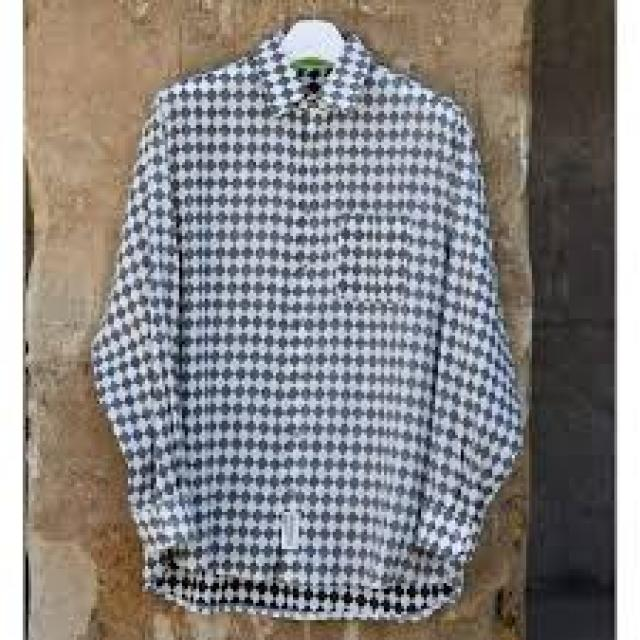plaid: (102, 45, 526, 620)
